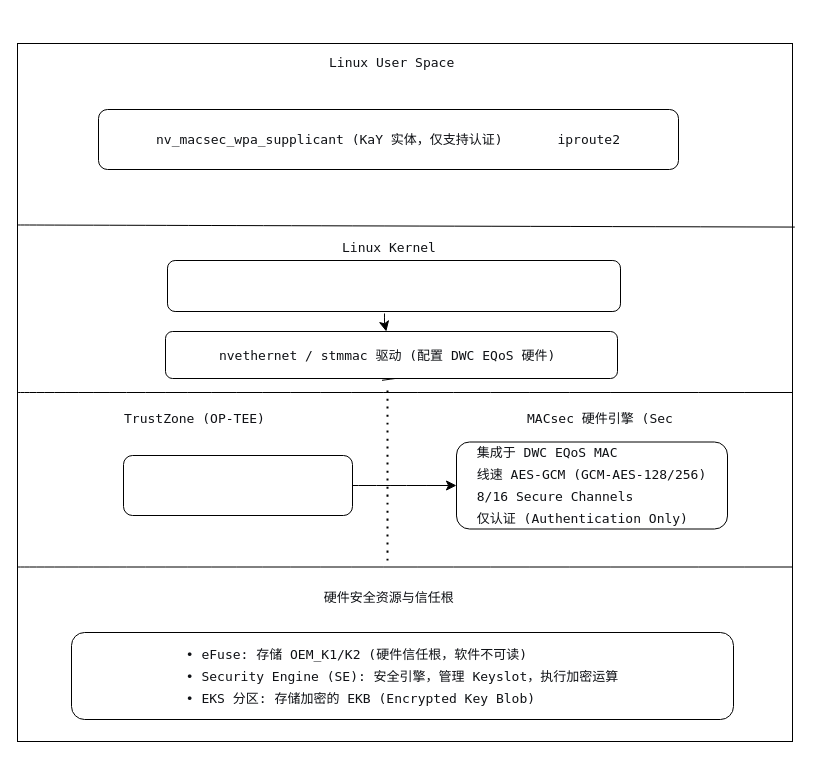
The diagram is 813 pixels wide and 759 high, and some of its shapes have lost their labels. Here are the shapes that lost their labels. From the top down, the centre of each, then its label:
the point at 393,286: net/macsec.c (软件 MACsec 框架)
the point at 237,485: 解密 EKB → 提取密钥 安全注入硬件 Keyslot
